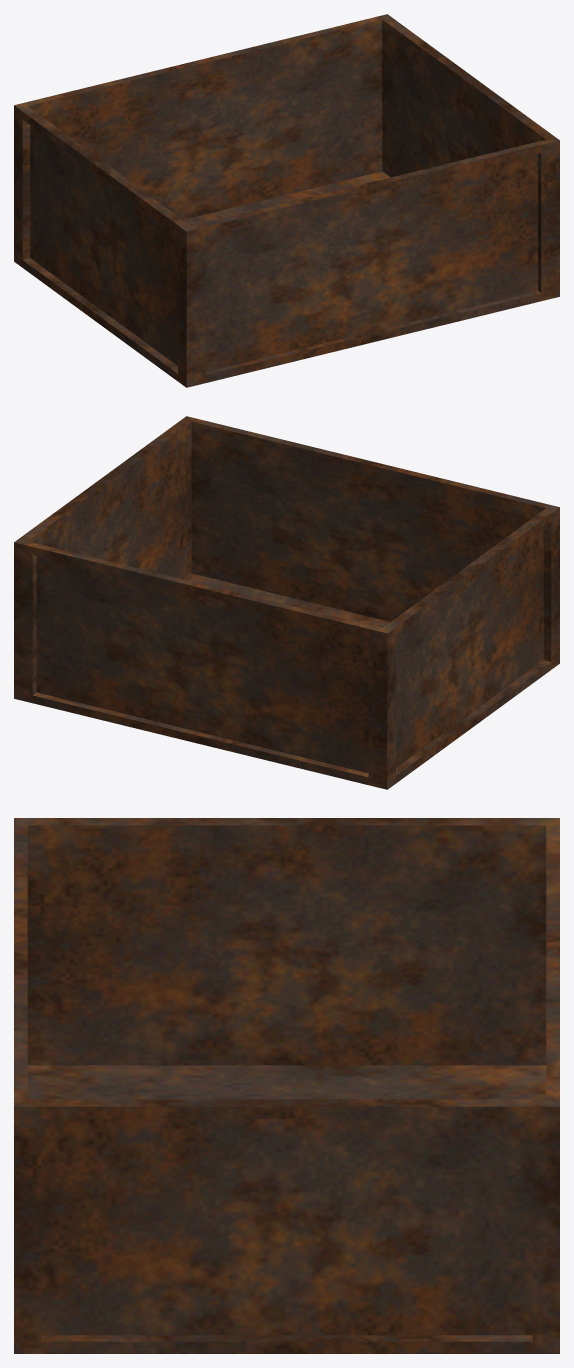
The model's file is SM_Metal_Create_02_Chest.fbx.
3 renders of one model, top to bottom at view 1: azimuth 30°, elevation 25°; view 2: azimuth 150°, elevation 25°; view 3: azimuth 270°, elevation 25°, orthographic. The views are drawn at different scales.
Parts seen in each view (by area): view 1: SM_Metal_Create_02_Chest; view 2: SM_Metal_Create_02_Chest; view 3: SM_Metal_Create_02_Chest.
Boxes of the visible parts, x1=… form: SM_Metal_Create_02_Chest: x1=14, y1=14, x2=559, y2=387; SM_Metal_Create_02_Chest: x1=14, y1=416, x2=559, y2=789; SM_Metal_Create_02_Chest: x1=14, y1=818, x2=559, y2=1353.
Bounding box in the file's own units: 200 × 80 × 160.
